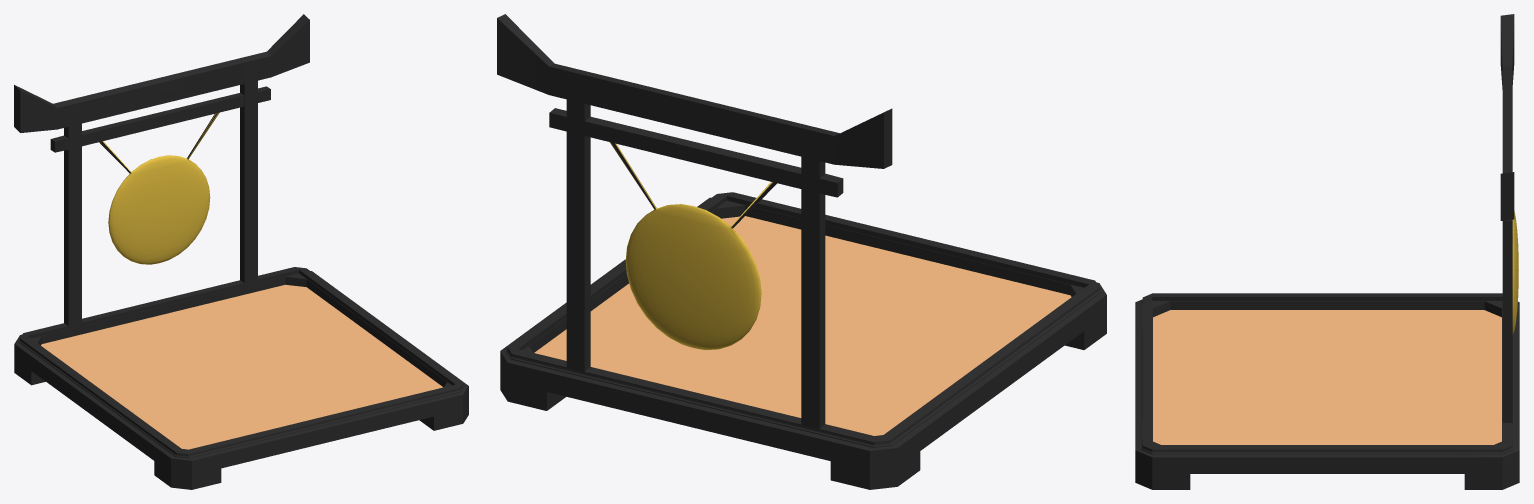
The model's file is Japanese_Garden.glb.
3 renders of one model, left to right at view 1: azimuth 30°, elevation 25°; view 2: azimuth 150°, elevation 25°; view 3: azimuth 270°, elevation 25°, orthographic. The views are drawn at different scales.
Visible parts, largest first — view 1: Cube, Plane, Sphere; view 2: Cube, Plane, Sphere; view 3: Plane, Cube, Sphere.
Part boxes in pixels (x1,y1,x2,y2): Cube: (14,14,468,489); Plane: (41,284,442,449); Sphere: (99,112,219,264); Cube: (497,14,1106,489); Plane: (534,216,1071,435); Sphere: (609,142,776,350); Plane: (1153,310,1501,444); Cube: (1135,14,1519,489); Sphere: (1512,211,1518,334).
Bounding box in the file's own units: 7.16 × 6.5 × 7.16.
